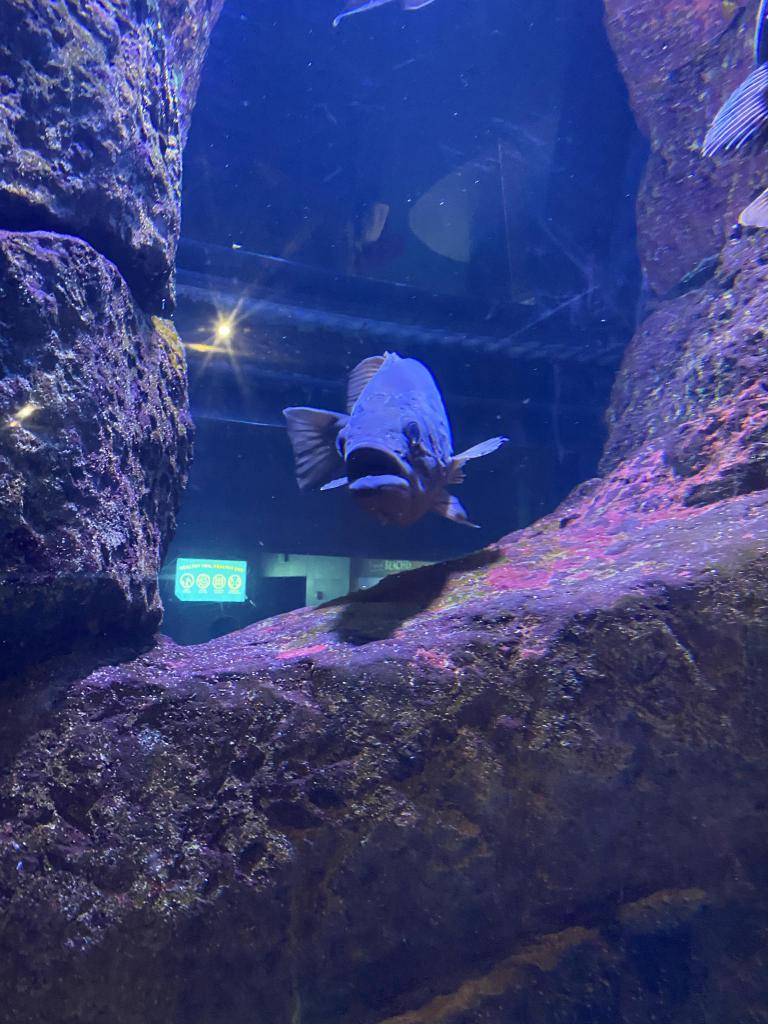fish: (281, 350, 509, 530)
